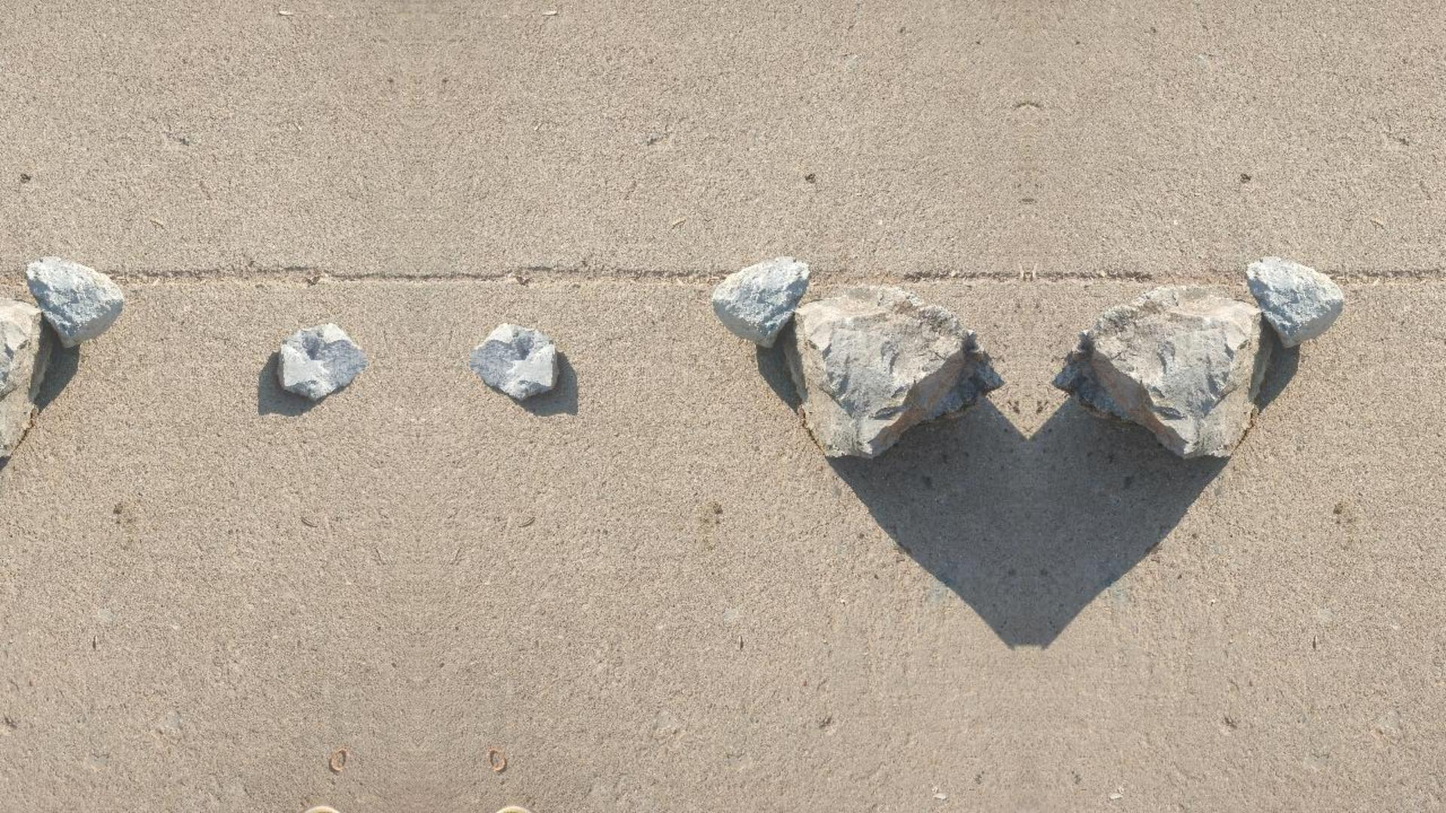rock: (785, 285, 1001, 456), (1053, 286, 1268, 456), (712, 257, 809, 347), (26, 257, 123, 347), (1246, 257, 1343, 347), (0, 299, 49, 457), (278, 324, 365, 400), (470, 324, 556, 400)
